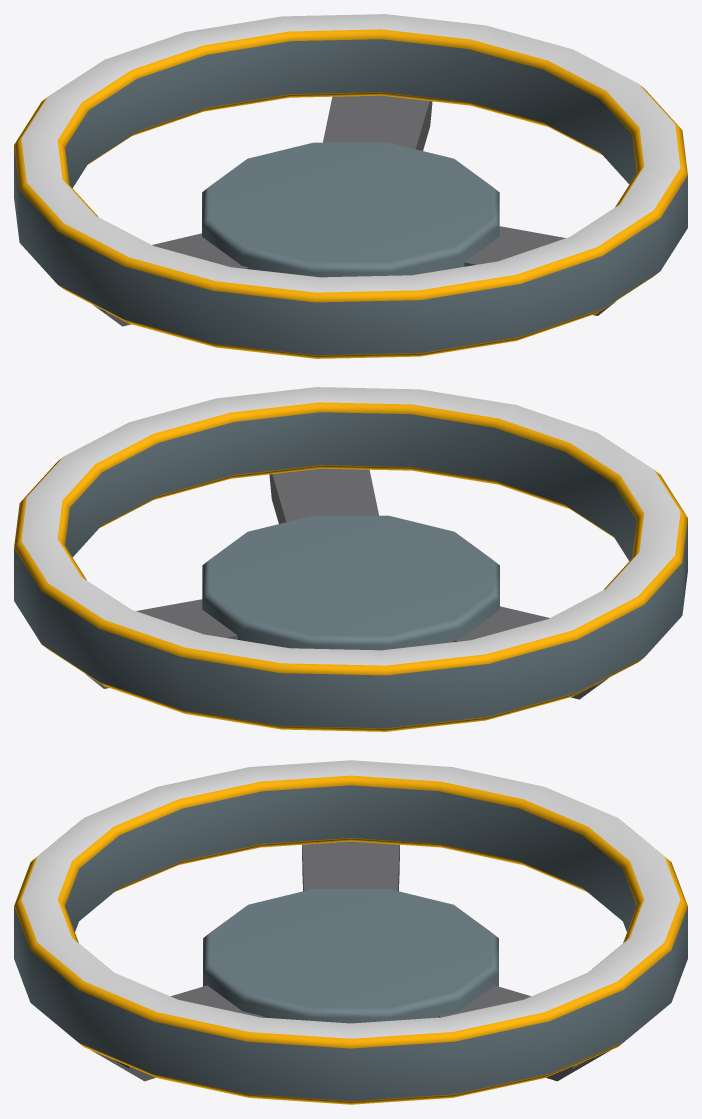
File: Cargo_drone_005_propeller_frame_001.fbx
3 renders of one model, top to bottom at view 1: azimuth 30°, elevation 25°; view 2: azimuth 150°, elevation 25°; view 3: azimuth 270°, elevation 25°, orthographic.
Parts seen in each view (by area): view 1: Cargo_drone_005_propeller_frame_001; view 2: Cargo_drone_005_propeller_frame_001; view 3: Cargo_drone_005_propeller_frame_001.
Boxes of the visible parts, bbox=[...] form: Cargo_drone_005_propeller_frame_001: bbox=[14, 14, 687, 358]; Cargo_drone_005_propeller_frame_001: bbox=[14, 387, 687, 731]; Cargo_drone_005_propeller_frame_001: bbox=[14, 760, 687, 1104].
Bounding box in the file's own units: 136 × 136 × 30.23.
